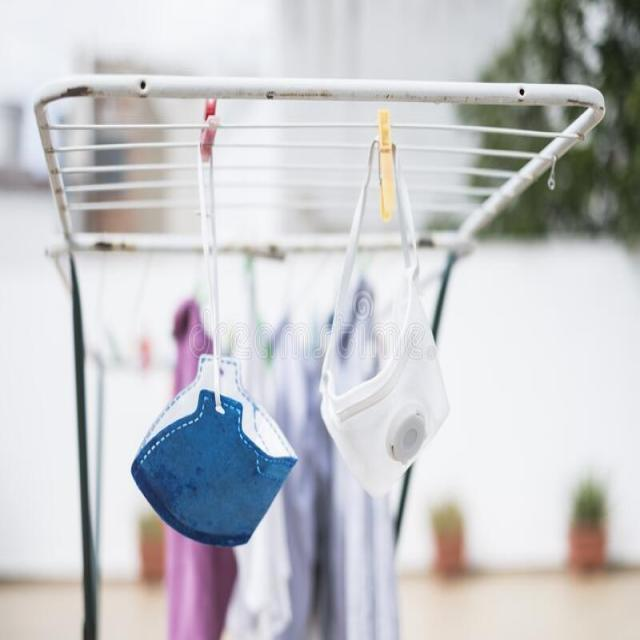clothes: (120, 358, 306, 549)
